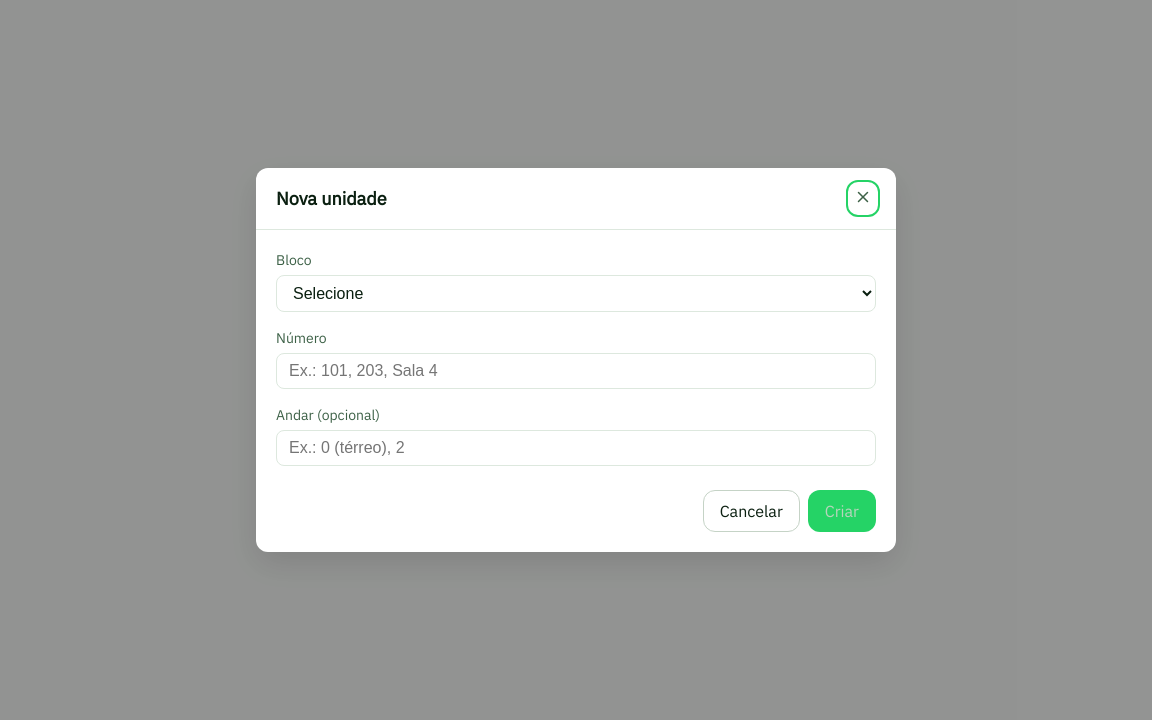
Test: UnitFormModal — criação (unit=null) › submit desabilitado até escolher bloco e preencher número
Expected: the button "Criar" is disabled, [808,490,876,532]
Select "Torre A" in the dropdown labelled "Bloco". click: coordinates (576, 294)
box: [276,275,876,312]
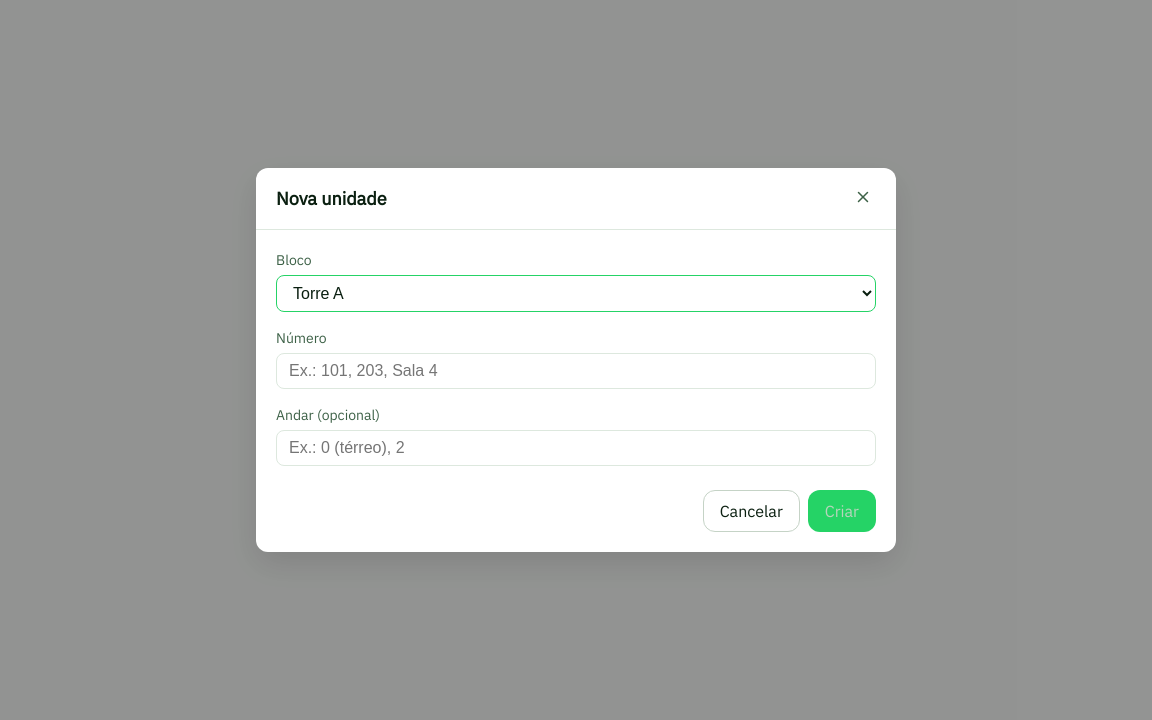
Expected: the button "Criar" is disabled, [808,490,876,532]
Type "101" into the field labelled "Número". click: coordinates (576, 371)
box: [276,353,876,389]
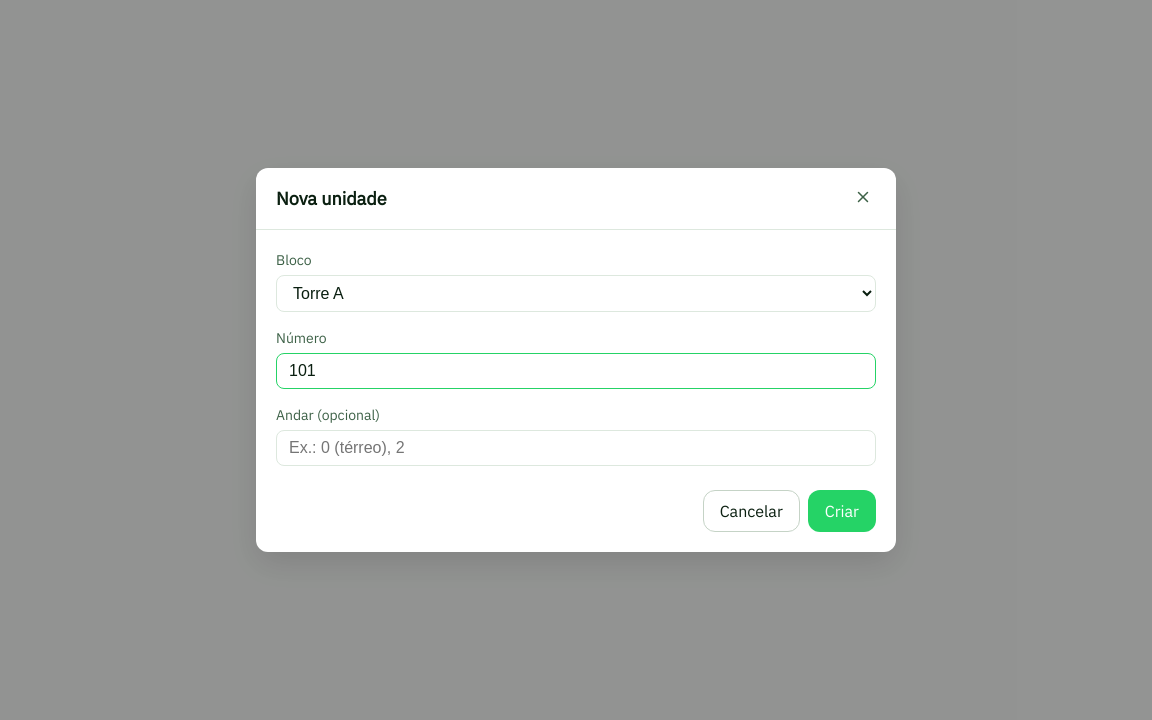
Expected: the button "Criar" is enabled, [808,490,876,532]
